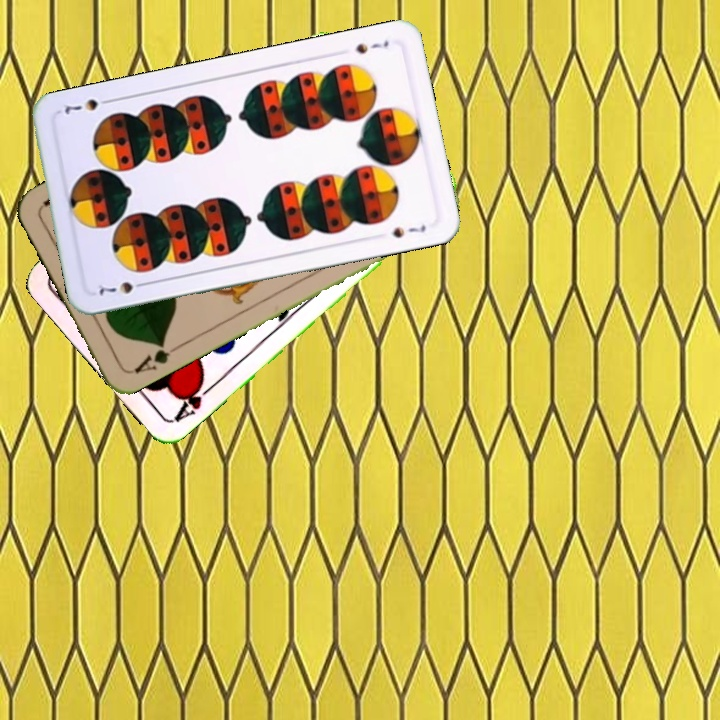GA: (128, 337, 182, 376)
HA: (169, 375, 218, 426)
S7: (94, 277, 151, 298), (352, 35, 391, 57)
